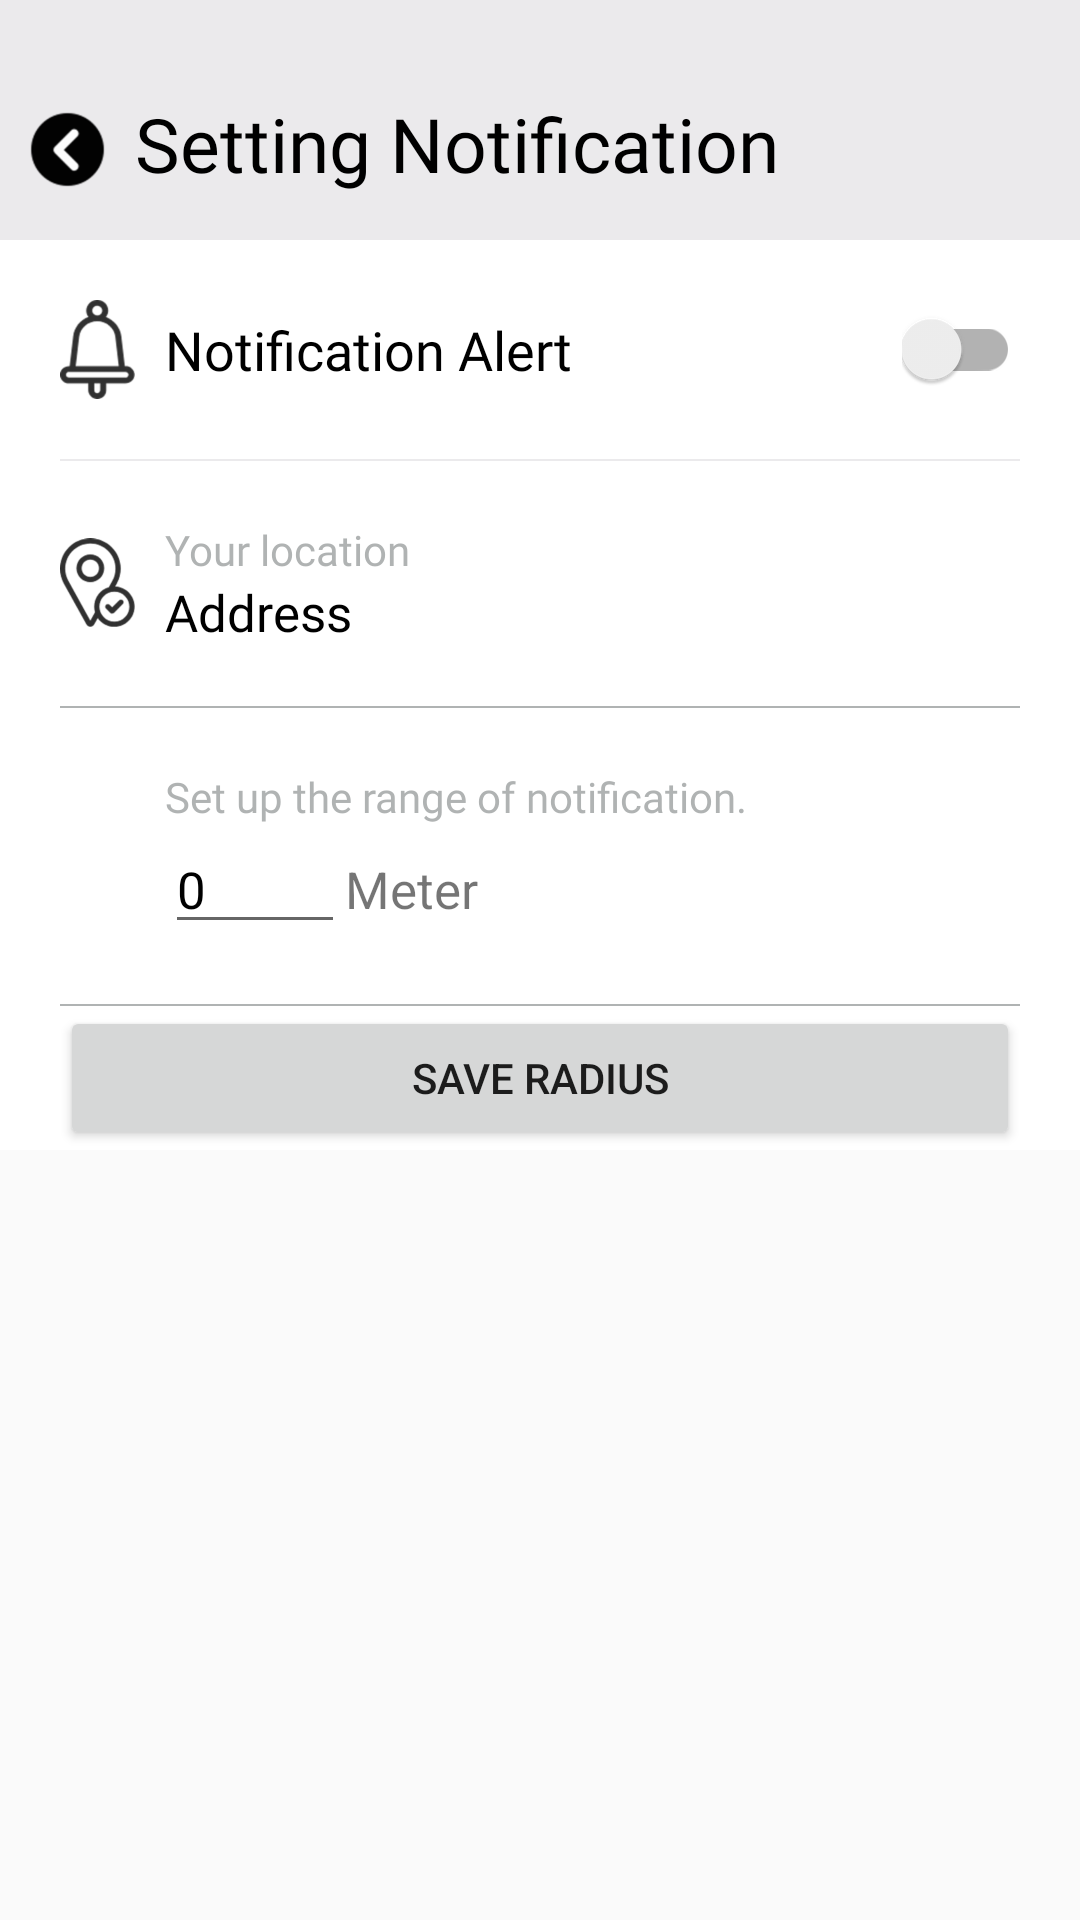

Named icons in this screenshot (1080*1920) and their bounding boxes, rect(x1, y1, x2, y2):
back: rect(31, 113, 105, 187)
location settings: rect(60, 538, 135, 627)
push notification settings: rect(60, 300, 135, 399)
